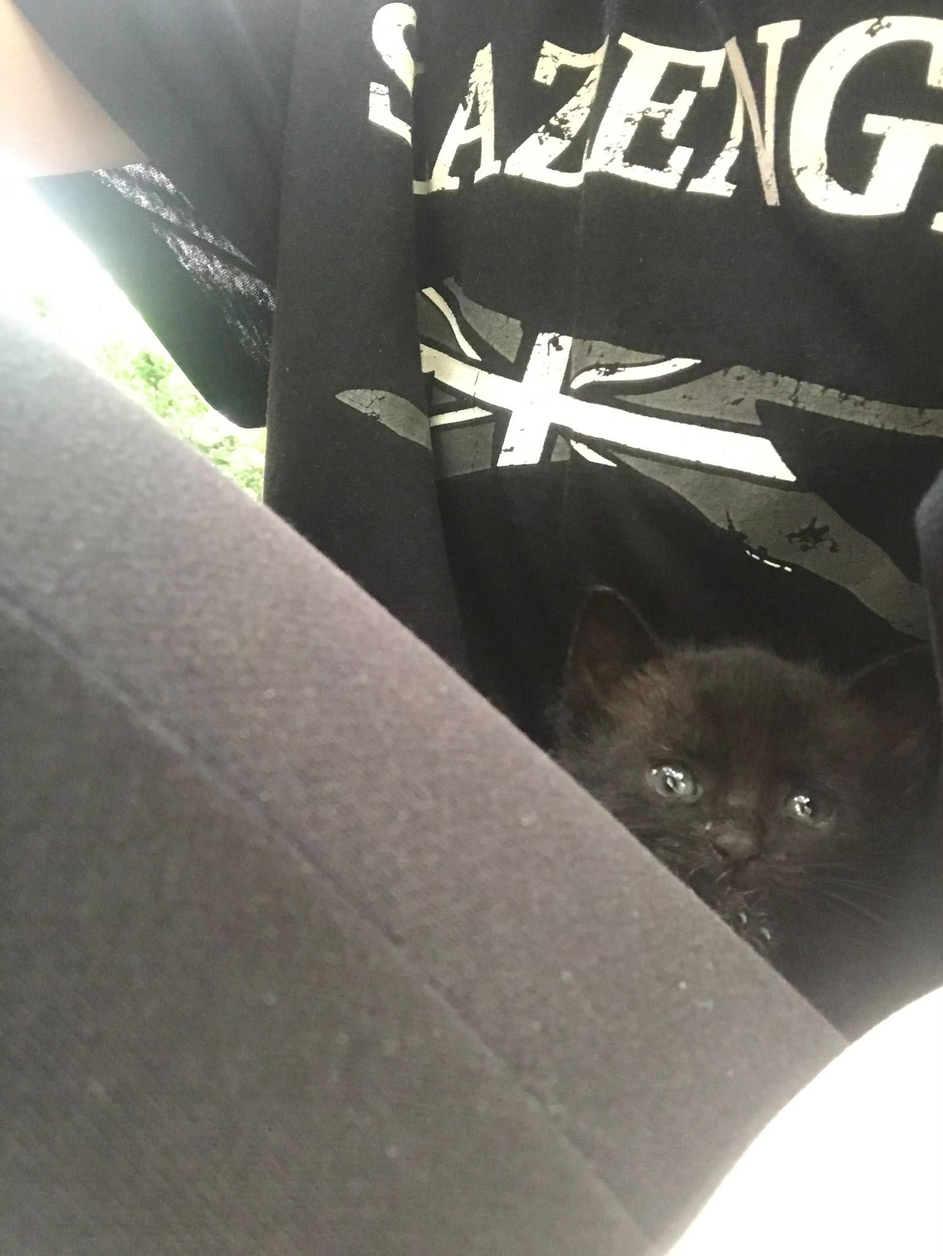macka: (550, 588, 942, 957)
